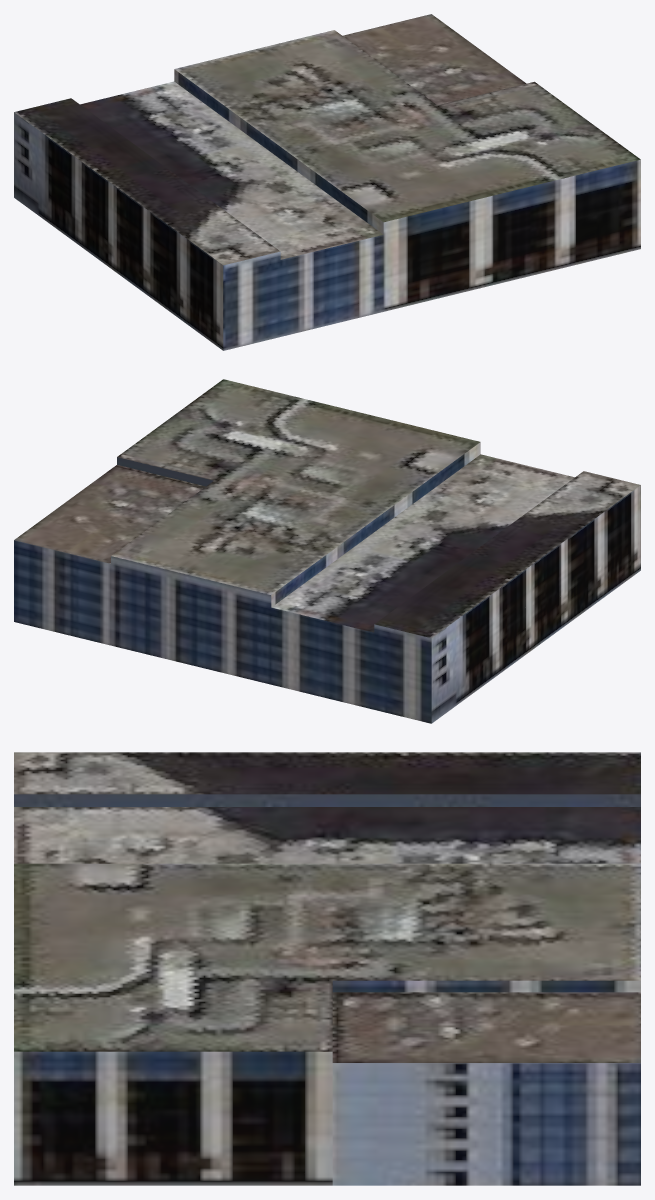
The picture shows the model from 3 angles, top to bottom: view 1: azimuth 30°, elevation 25°; view 2: azimuth 150°, elevation 25°; view 3: azimuth 270°, elevation 25°; orthographic projection. The views are drawn at different scales.
Parts seen in each view (by area): view 1: b54; view 2: b54; view 3: b54.
Boxes of the visible parts, left/top/right/bottom form: b54: left=14, top=14, right=640, bottom=350; b54: left=14, top=379, right=640, bottom=723; b54: left=14, top=752, right=640, bottom=1185.
Size of the model in its own units: 56.1 by 11.49 by 48.73.
Materials: 1 (1 with a texture image).
